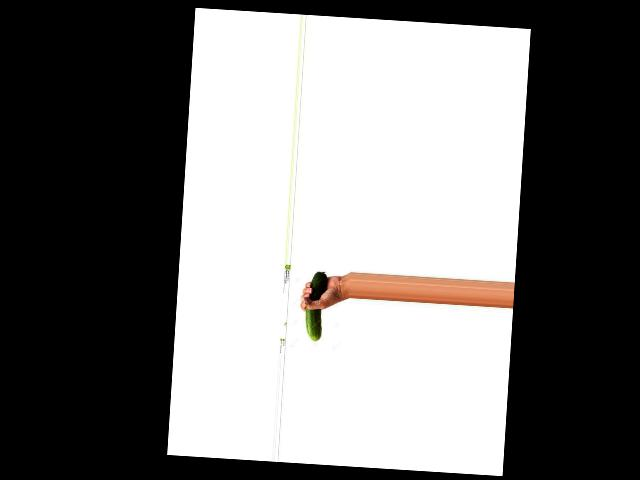cucumber: (303, 271, 327, 341)
